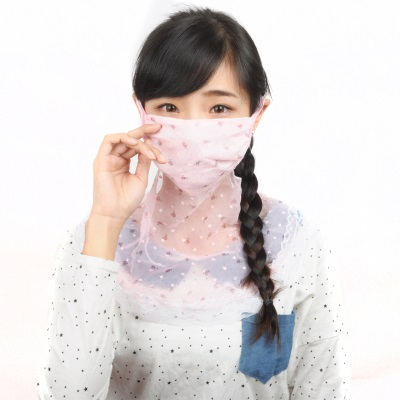face_mask: (141, 52, 250, 188)
